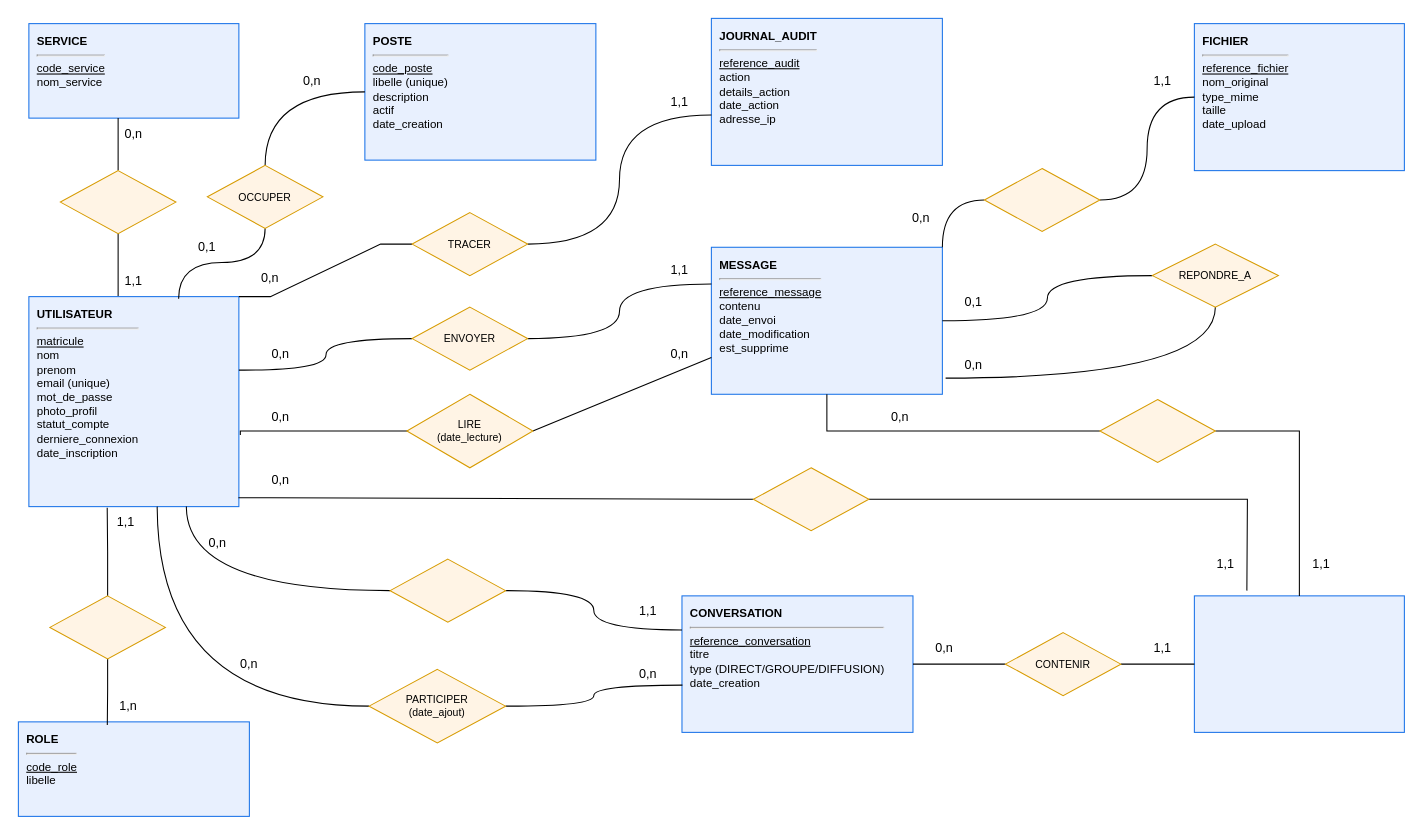
Some shapes in this 1423 by 835 pixel diagram are drawn without their labels. Each missing label, with the centre of its shape:
APPARTENIR: point 117,202
AVOIR: point 107,627
CONCERNER: point 1157,430
CREER: point 447,590
JOINDRE: point 1041,199
REACTION reference_reaction emoji date_reaction: point 1298,663
REAGIR: point 810,499
